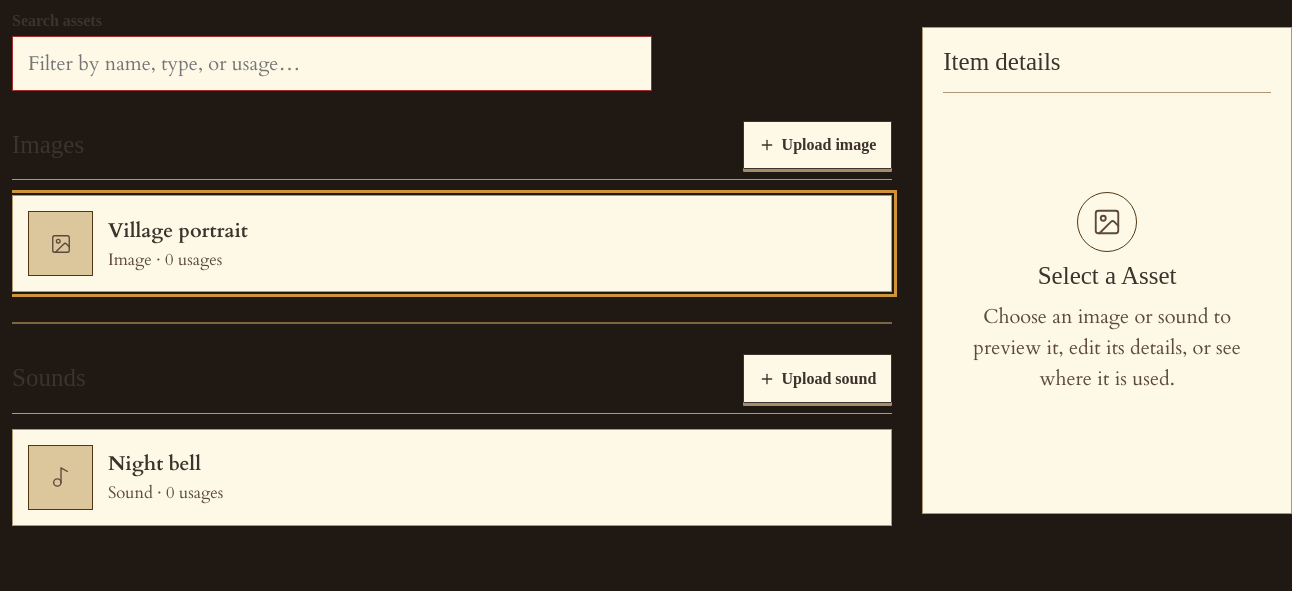
Scenario: MediaLibrary › uses native keyboard-operable buttons for asset selection
Press Enter
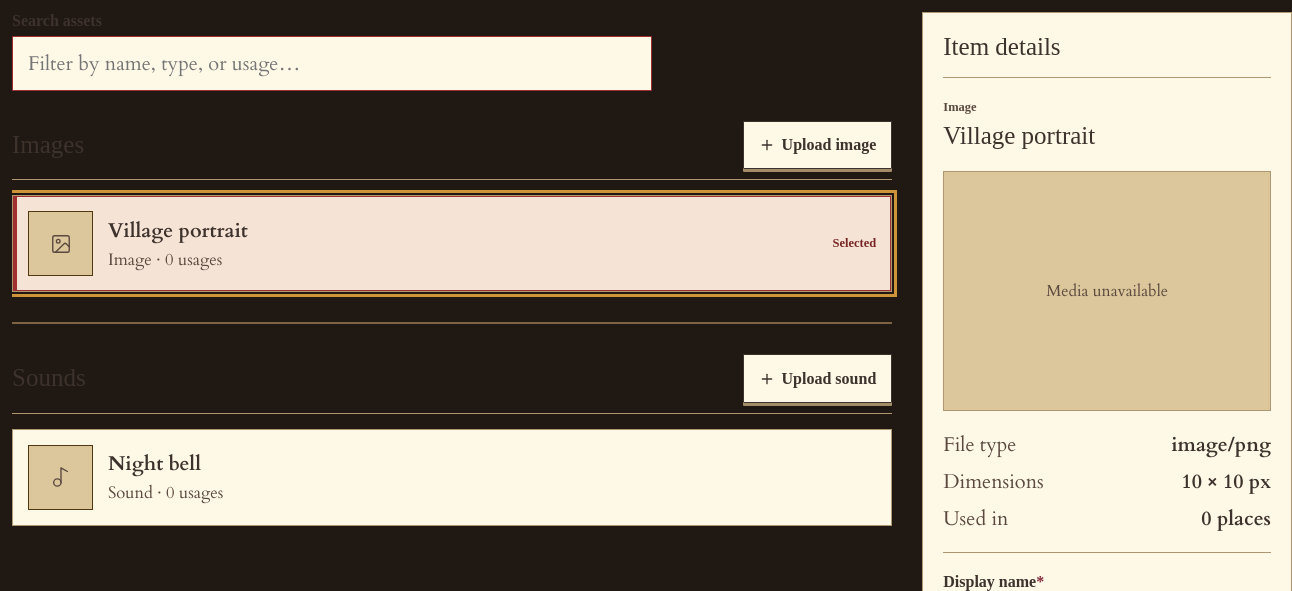
Expected: the number of headings "Item details" is 1, [943,33,1271,78]
Result: the heading "Village portrait" is shown at [943,122,1095,149]
Click the button "Village portrait Image · 0 usages Selected" at (60, 244), box [12,195,892,292]
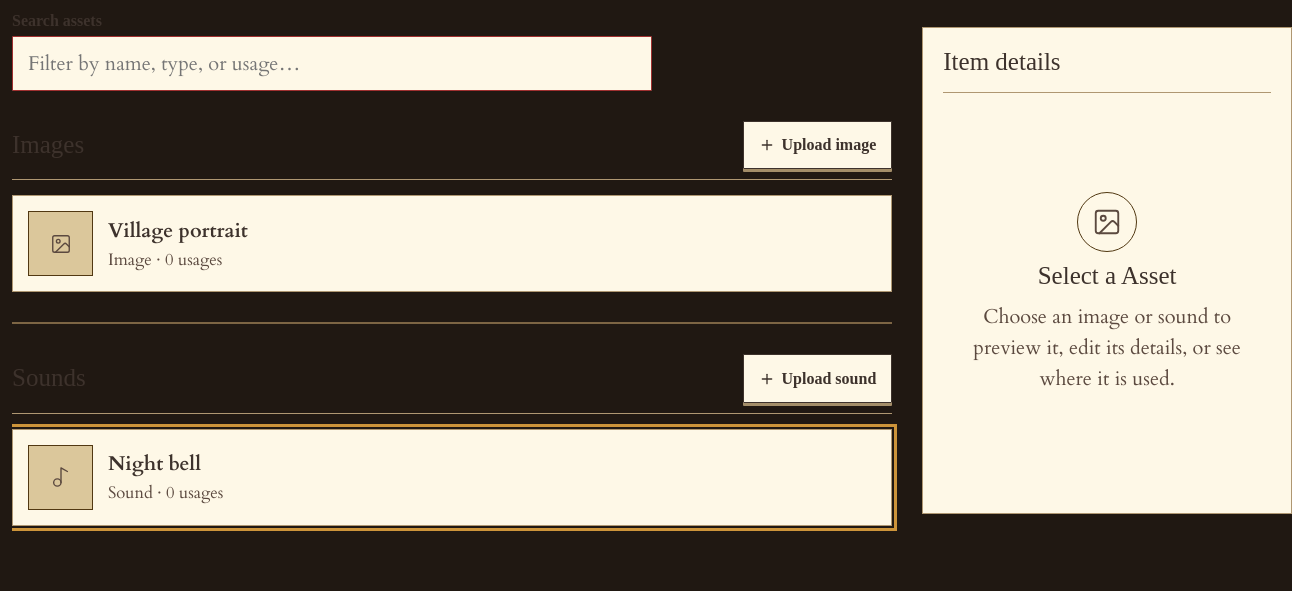
Result: the button "Village portrait Image · 0 usages" does not have attribute aria-current at [12,195,892,292]
Press Enter
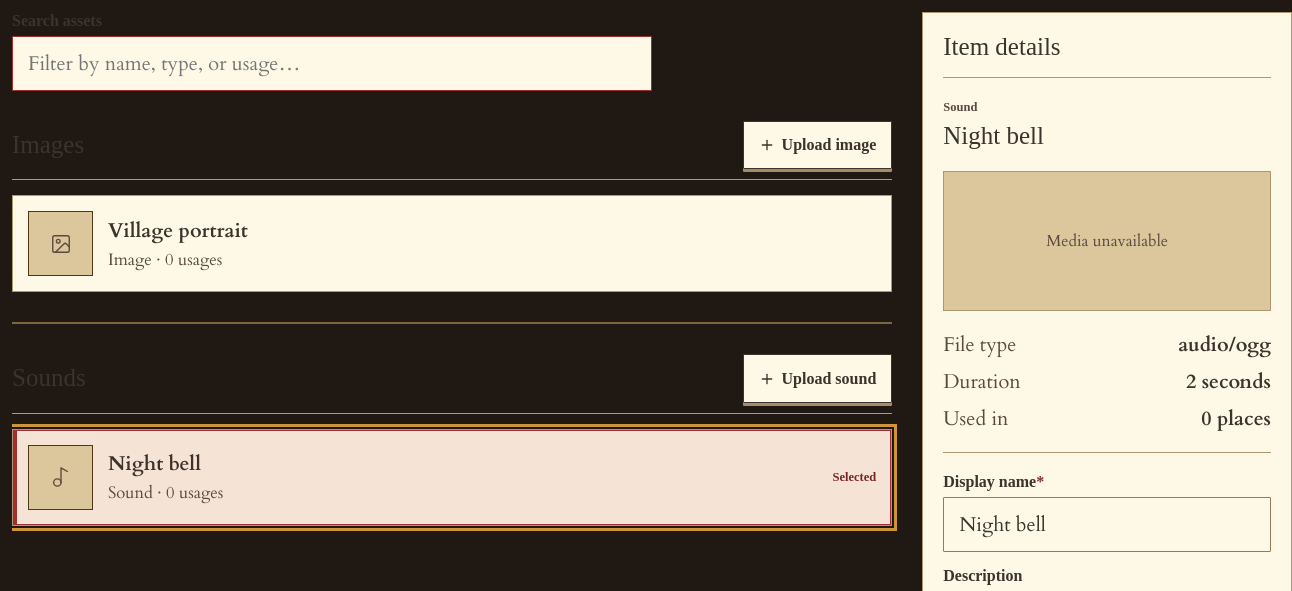
Result: the heading "Night bell" is shown at [943,122,1044,149]
